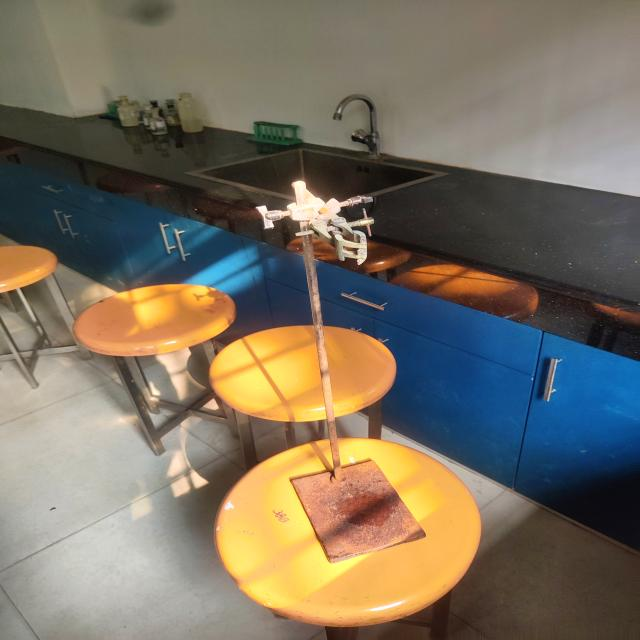Burette_Stands: (196, 152, 440, 584)
